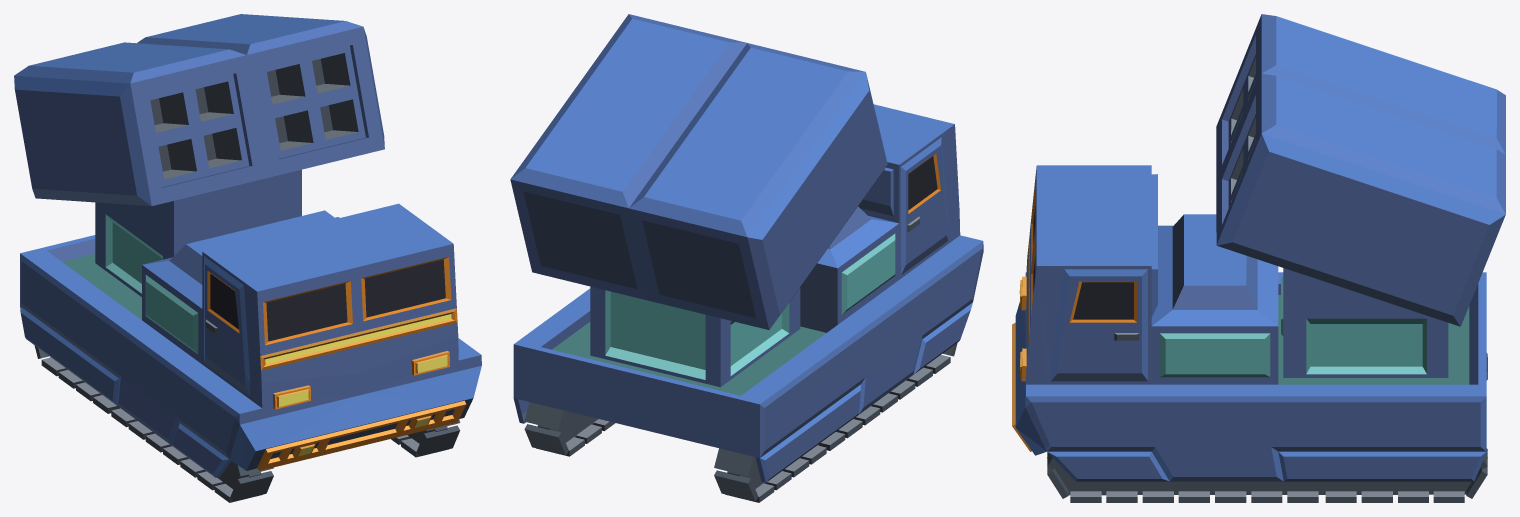
File: Missle_Vehicles1.fbx
The picture shows the model from 3 angles, left to right: view 1: azimuth 30°, elevation 25°; view 2: azimuth 150°, elevation 25°; view 3: azimuth 270°, elevation 25°; orthographic projection. The views are drawn at different scales.
Visible parts, largest first — view 1: Missle_Vehicles, Missle, Tie7, Tie; view 2: Missle, Missle_Vehicles, Tie7, Tie; view 3: Missle_Vehicles, Missle, Tie.
Boxes of the visible parts, x1,y1,x2,y2 form: Missle_Vehicles: (20, 169, 481, 477); Missle: (14, 14, 384, 206); Tie7: (34, 345, 273, 502); Tie: (391, 419, 460, 457); Missle: (510, 14, 887, 329); Missle_Vehicles: (513, 104, 983, 482); Tie7: (714, 343, 957, 502); Tie: (524, 402, 615, 456); Missle_Vehicles: (1012, 165, 1486, 481); Missle: (1216, 14, 1505, 326); Tie: (1047, 448, 1487, 502).
Size of the model in its own units: 162 by 223 by 266.
